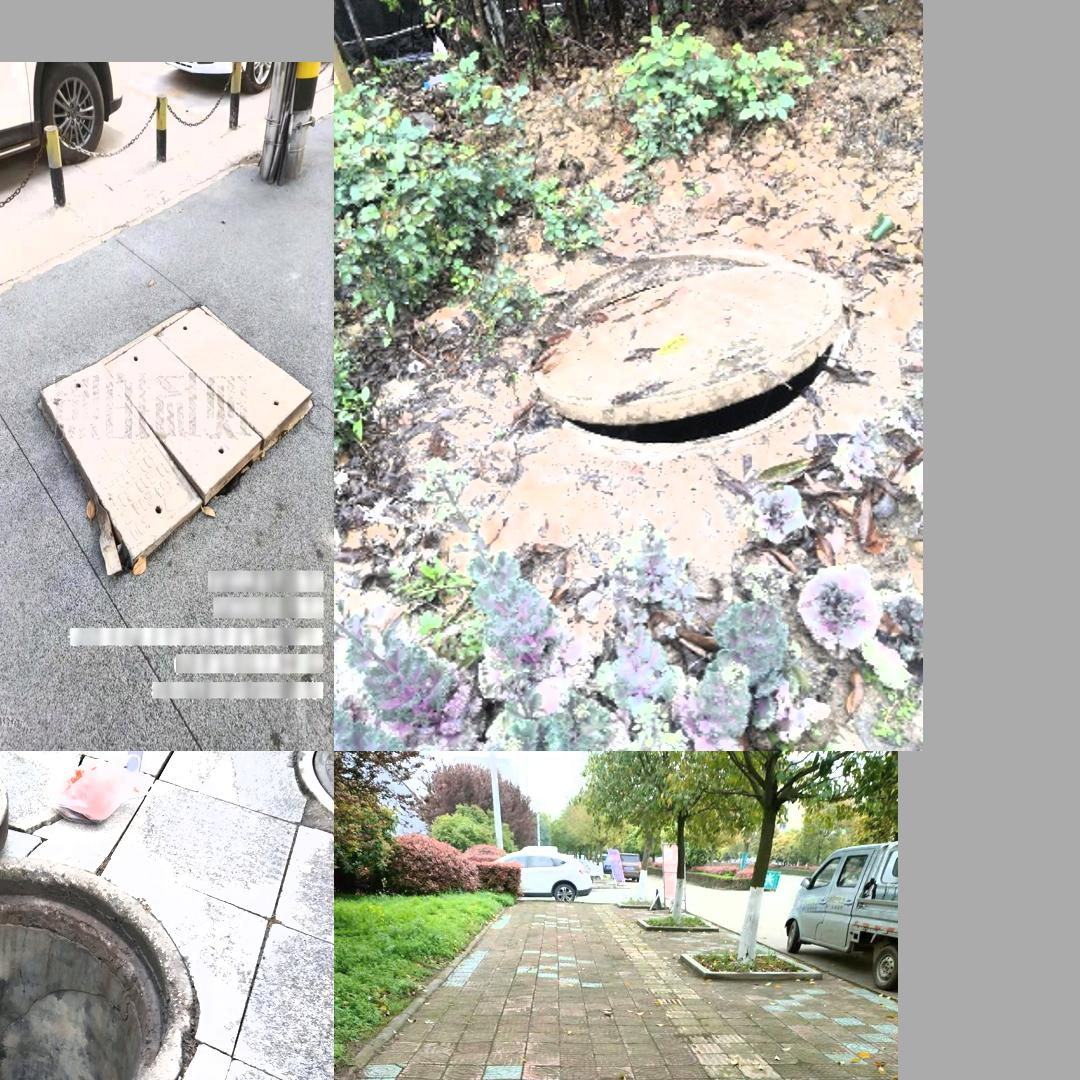uncovered: (40, 301, 312, 562), (527, 249, 842, 458), (0, 752, 195, 1080)
